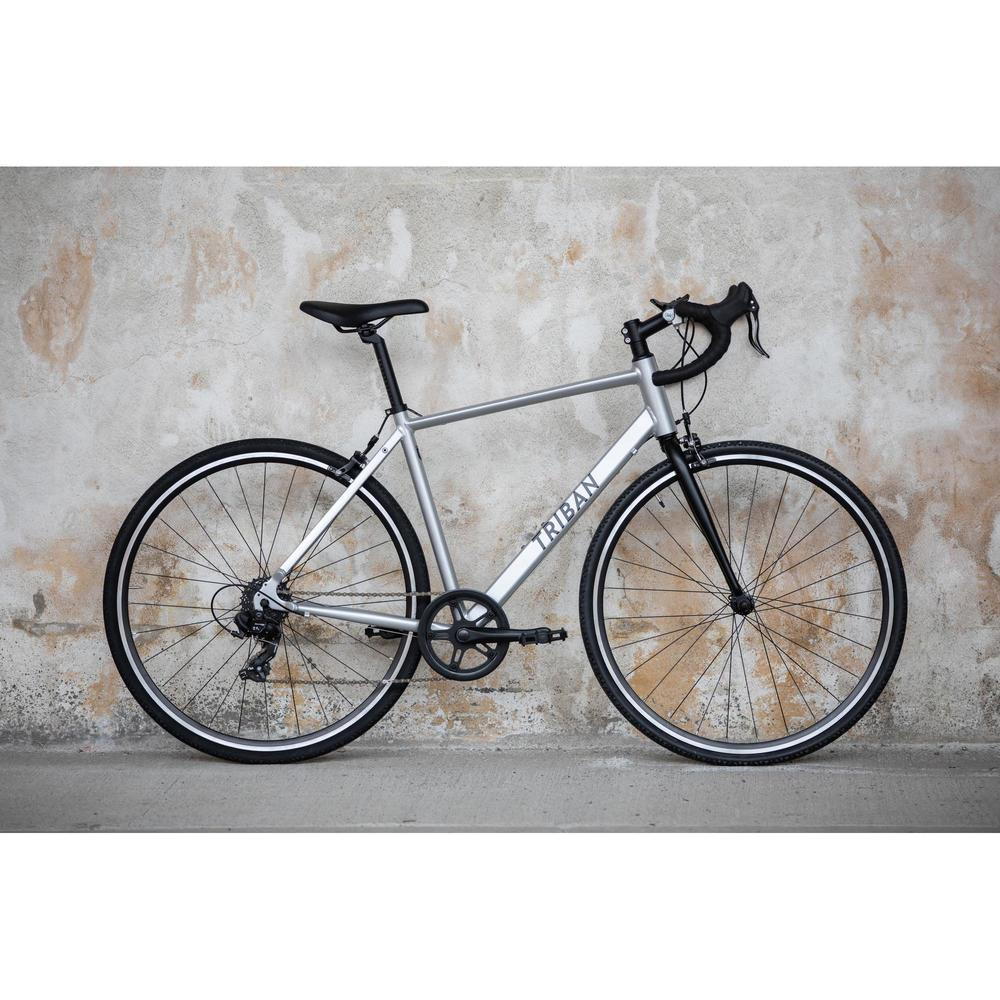RoadBike: (90, 274, 925, 770)
